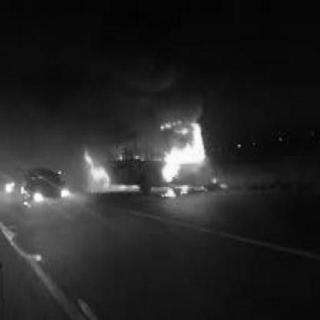Fire: (65, 122, 219, 200)
